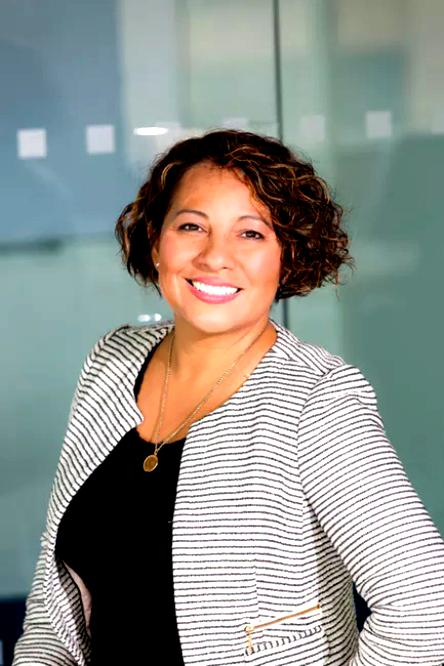face: (161, 162, 278, 339)
